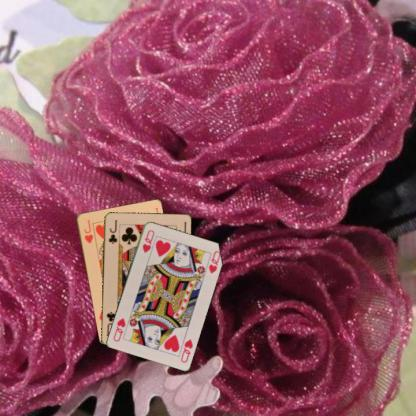Jc: (106, 217, 118, 245)
Jh: (81, 218, 94, 245)
Qh: (178, 336, 194, 364), (140, 227, 155, 254)
